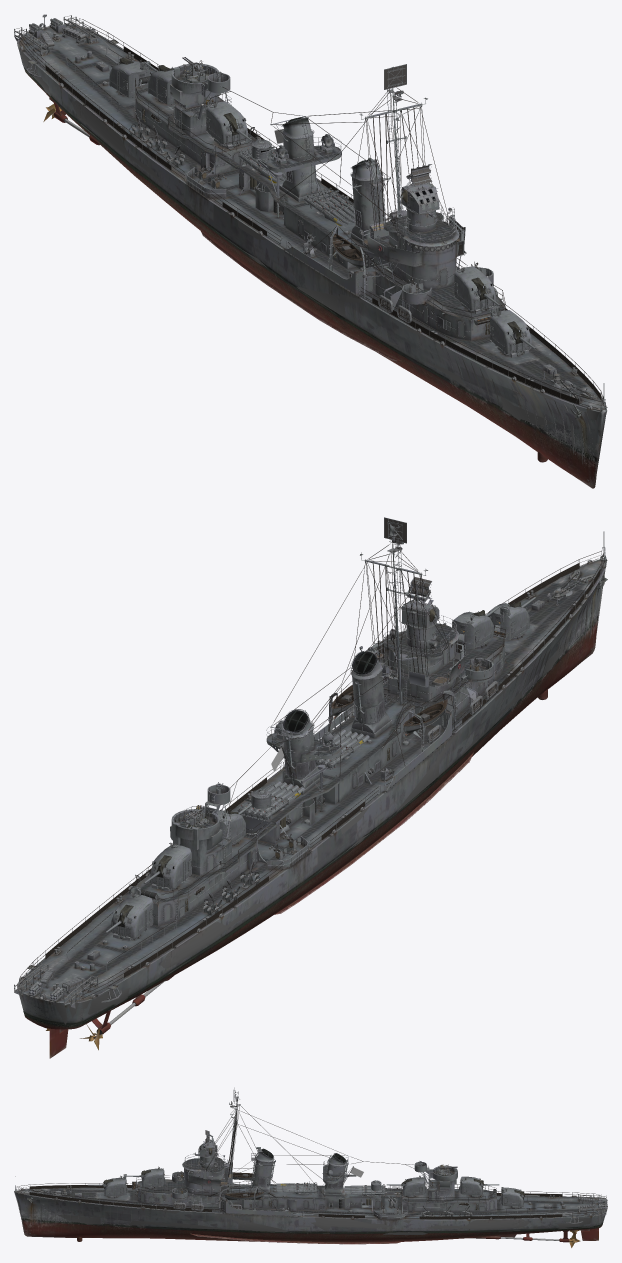
Rendered from uss_fletcher_war_thunder-maximum-compressed.glb.
3 views of the same model, one above another, from view 1: azimuth 30°, elevation 25°; view 2: azimuth 150°, elevation 25°; view 3: azimuth 270°, elevation 25° (orthographic). The views are drawn at different scales.
Visible parts, largest first — view 1: Object_52, Object_47, Object_61, Object_46, Object_44, Object_53, Object_20, Object_45, Object_36, Object_43, Object_18, Object_29 (+15 smaller); view 2: Object_52, Object_47, Object_61, Object_46, Object_53, Object_20, Object_45, Object_44, Object_36, Object_43, Object_18, Object_33 (+14 smaller); view 3: Object_47, Object_52, Object_61, Object_20, Object_53, Object_45, Object_46, Object_44, Object_36, Object_43, Object_18, Object_12 (+13 smaller).
Boxes of the visible parts, x1,y1,x2,y2 form: Object_52: (19, 25, 604, 410); Object_47: (14, 23, 607, 459); Object_61: (24, 69, 597, 488); Object_46: (170, 62, 385, 247); Object_44: (284, 207, 504, 340); Object_53: (20, 19, 603, 408); Object_20: (17, 14, 606, 481); Object_45: (135, 83, 388, 268); Object_36: (45, 46, 600, 404); Object_43: (43, 64, 439, 320); Object_18: (170, 64, 607, 418); Object_29: (489, 305, 531, 357); Object_52: (20, 558, 605, 1002); Object_47: (14, 555, 607, 1025); Object_61: (23, 618, 597, 1058); Object_46: (170, 635, 503, 875); Object_53: (20, 544, 604, 998); Object_20: (19, 559, 605, 1025); Object_45: (136, 700, 414, 925); Object_44: (284, 621, 505, 790); Object_36: (45, 563, 600, 977); Object_43: (46, 517, 492, 1050); Object_18: (173, 572, 607, 872); Object_33: (111, 886, 153, 940); Object_47: (14, 1136, 607, 1240); Object_52: (16, 1158, 604, 1219); Object_61: (21, 1219, 602, 1244); Object_20: (14, 1185, 607, 1235); Object_53: (17, 1104, 597, 1218); Object_45: (227, 1184, 496, 1213); Object_46: (250, 1147, 457, 1200); Object_44: (137, 1152, 297, 1216); Object_36: (29, 1182, 562, 1219); Object_43: (198, 1087, 580, 1247); Object_18: (27, 1153, 457, 1203); Object_12: (15, 1152, 607, 1216).
Bounding box in the file's own units: 12.19 × 31.78 × 112.
Materials: 26 (26 with a texture image).
